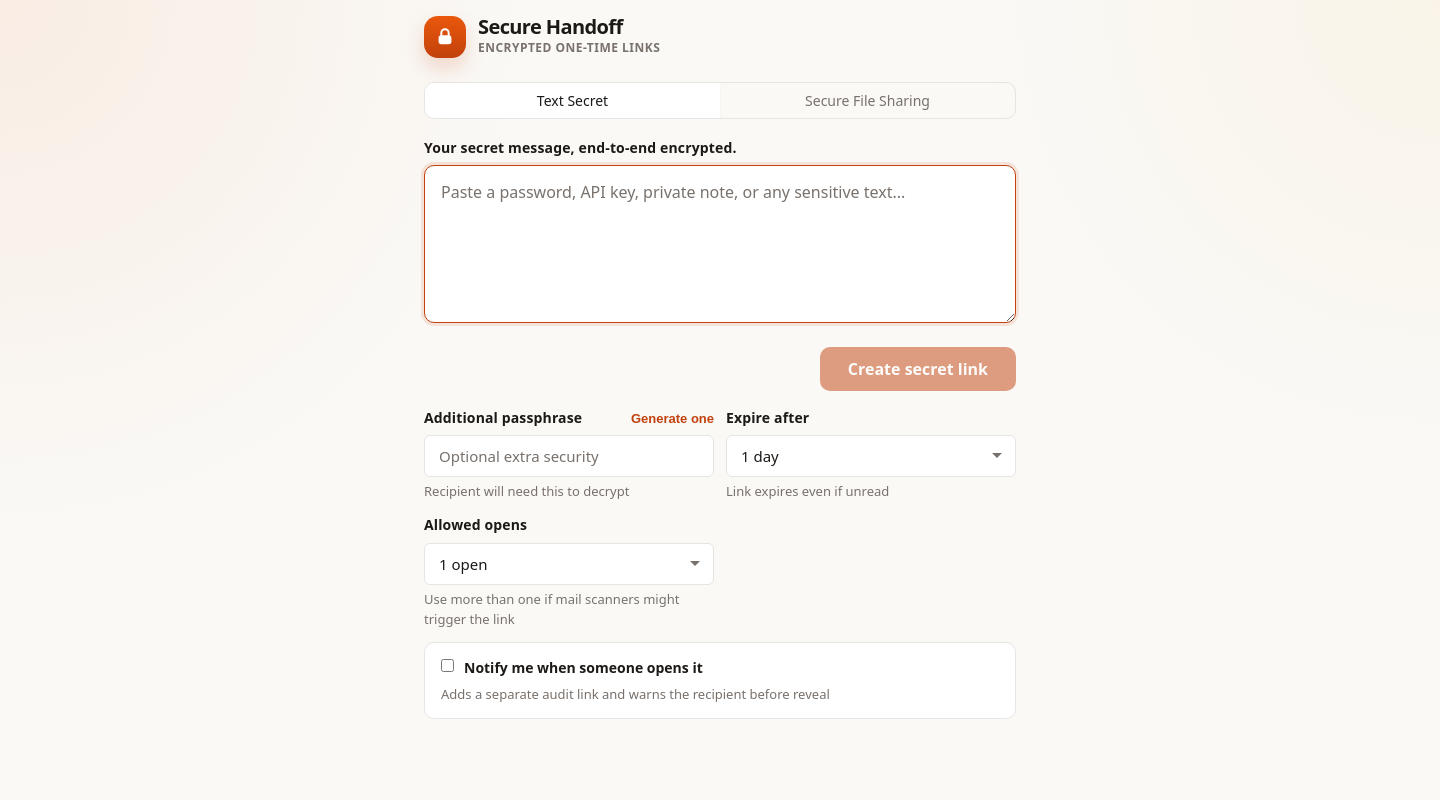
Scenario: App shell › switches modes on the same page without changing the URL
The image size is (1440, 800).
Expected: the text box labelled "Your secret message, end-to-end encrypted." is shown, x1=424 y1=165 x2=1016 y2=323
Click the button "Secure File Sharing" at (868, 100), box x1=720 y1=83 x2=1015 y2=118
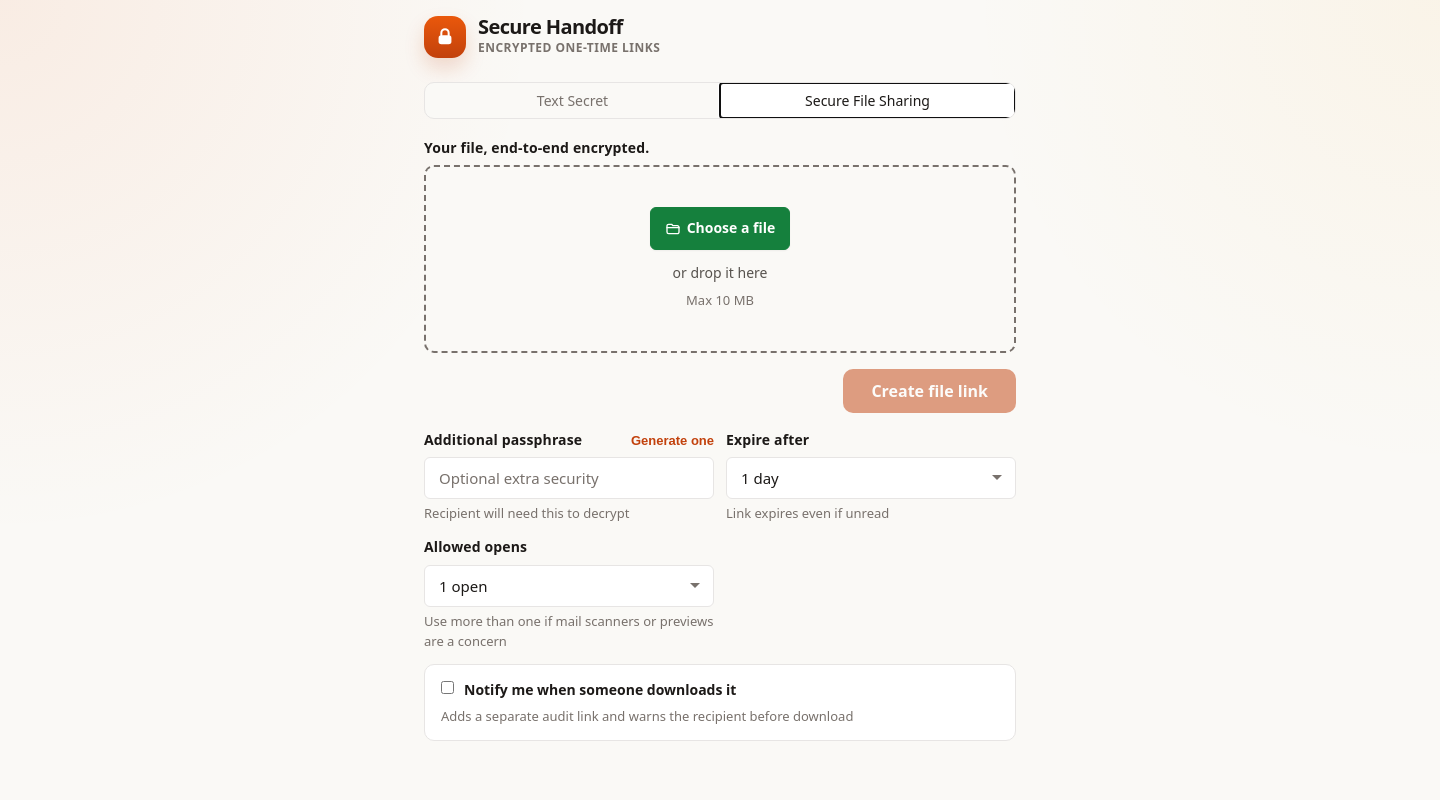
Result: the text "Your file, end-to-end encrypted." is shown at x1=424 y1=138 x2=649 y2=157
